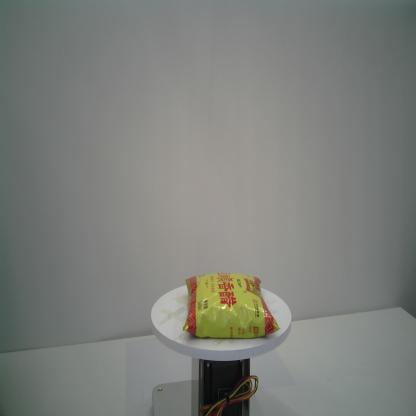Seasoner: (182, 272, 281, 339)
